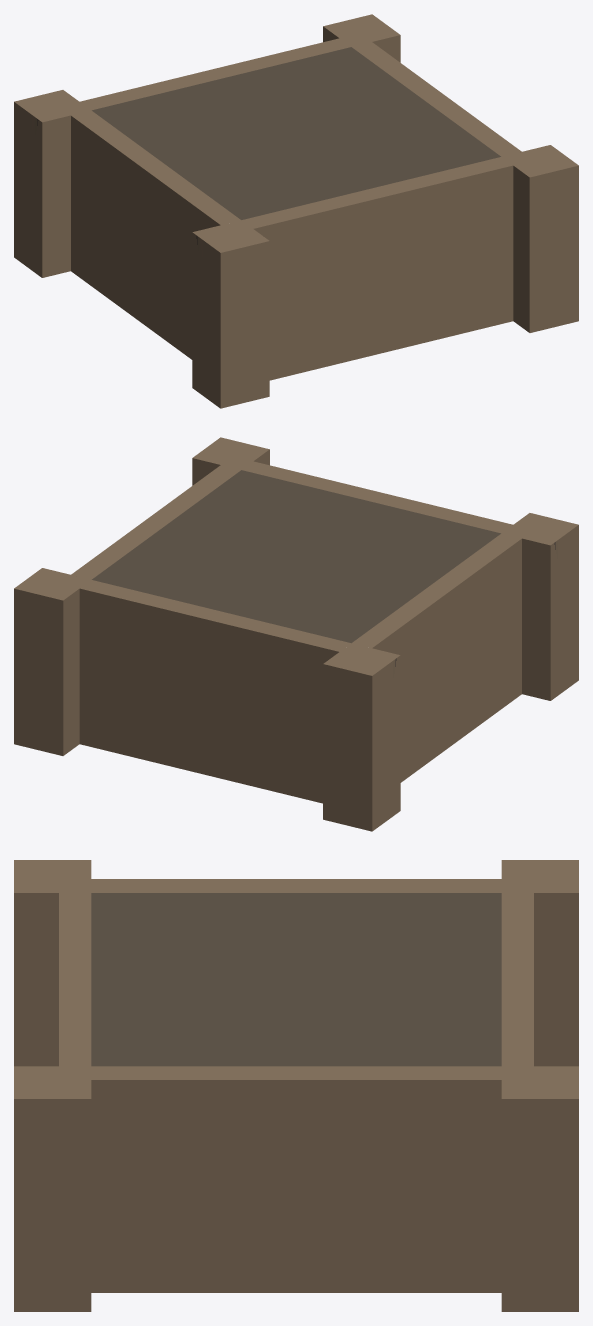
Rendered from planter.obj.
The picture shows the model from 3 angles, top to bottom: view 1: azimuth 30°, elevation 25°; view 2: azimuth 150°, elevation 25°; view 3: azimuth 270°, elevation 25°; orthographic projection. The views are drawn at different scales.
Visible parts, largest first — view 1: Planter; view 2: Planter; view 3: Planter.
Boxes of the visible parts, left/top/right/bottom form: Planter: left=14, top=14, right=578, bottom=408; Planter: left=14, top=437, right=578, bottom=831; Planter: left=14, top=860, right=578, bottom=1311.
Size of the model in its own units: 5.11 by 2.12 by 5.1.
Materials: 1 (1 with a texture image).
